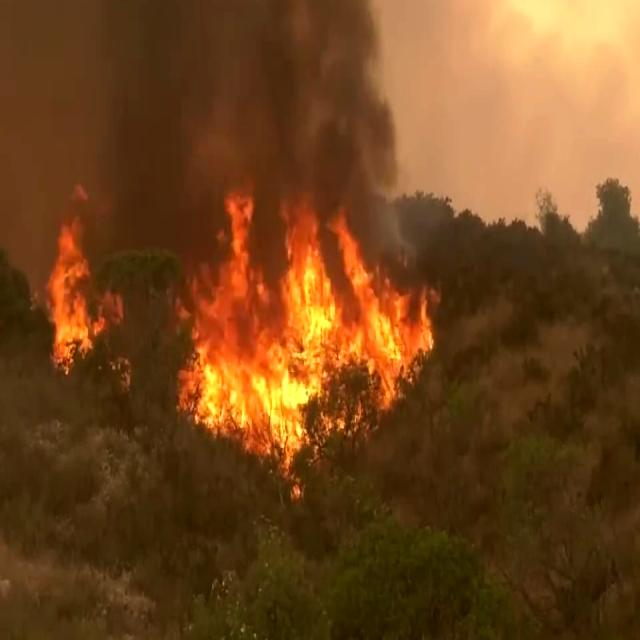fire: (177, 183, 425, 465), (29, 228, 126, 404)
smoke: (37, 0, 226, 216), (204, 0, 386, 97)
